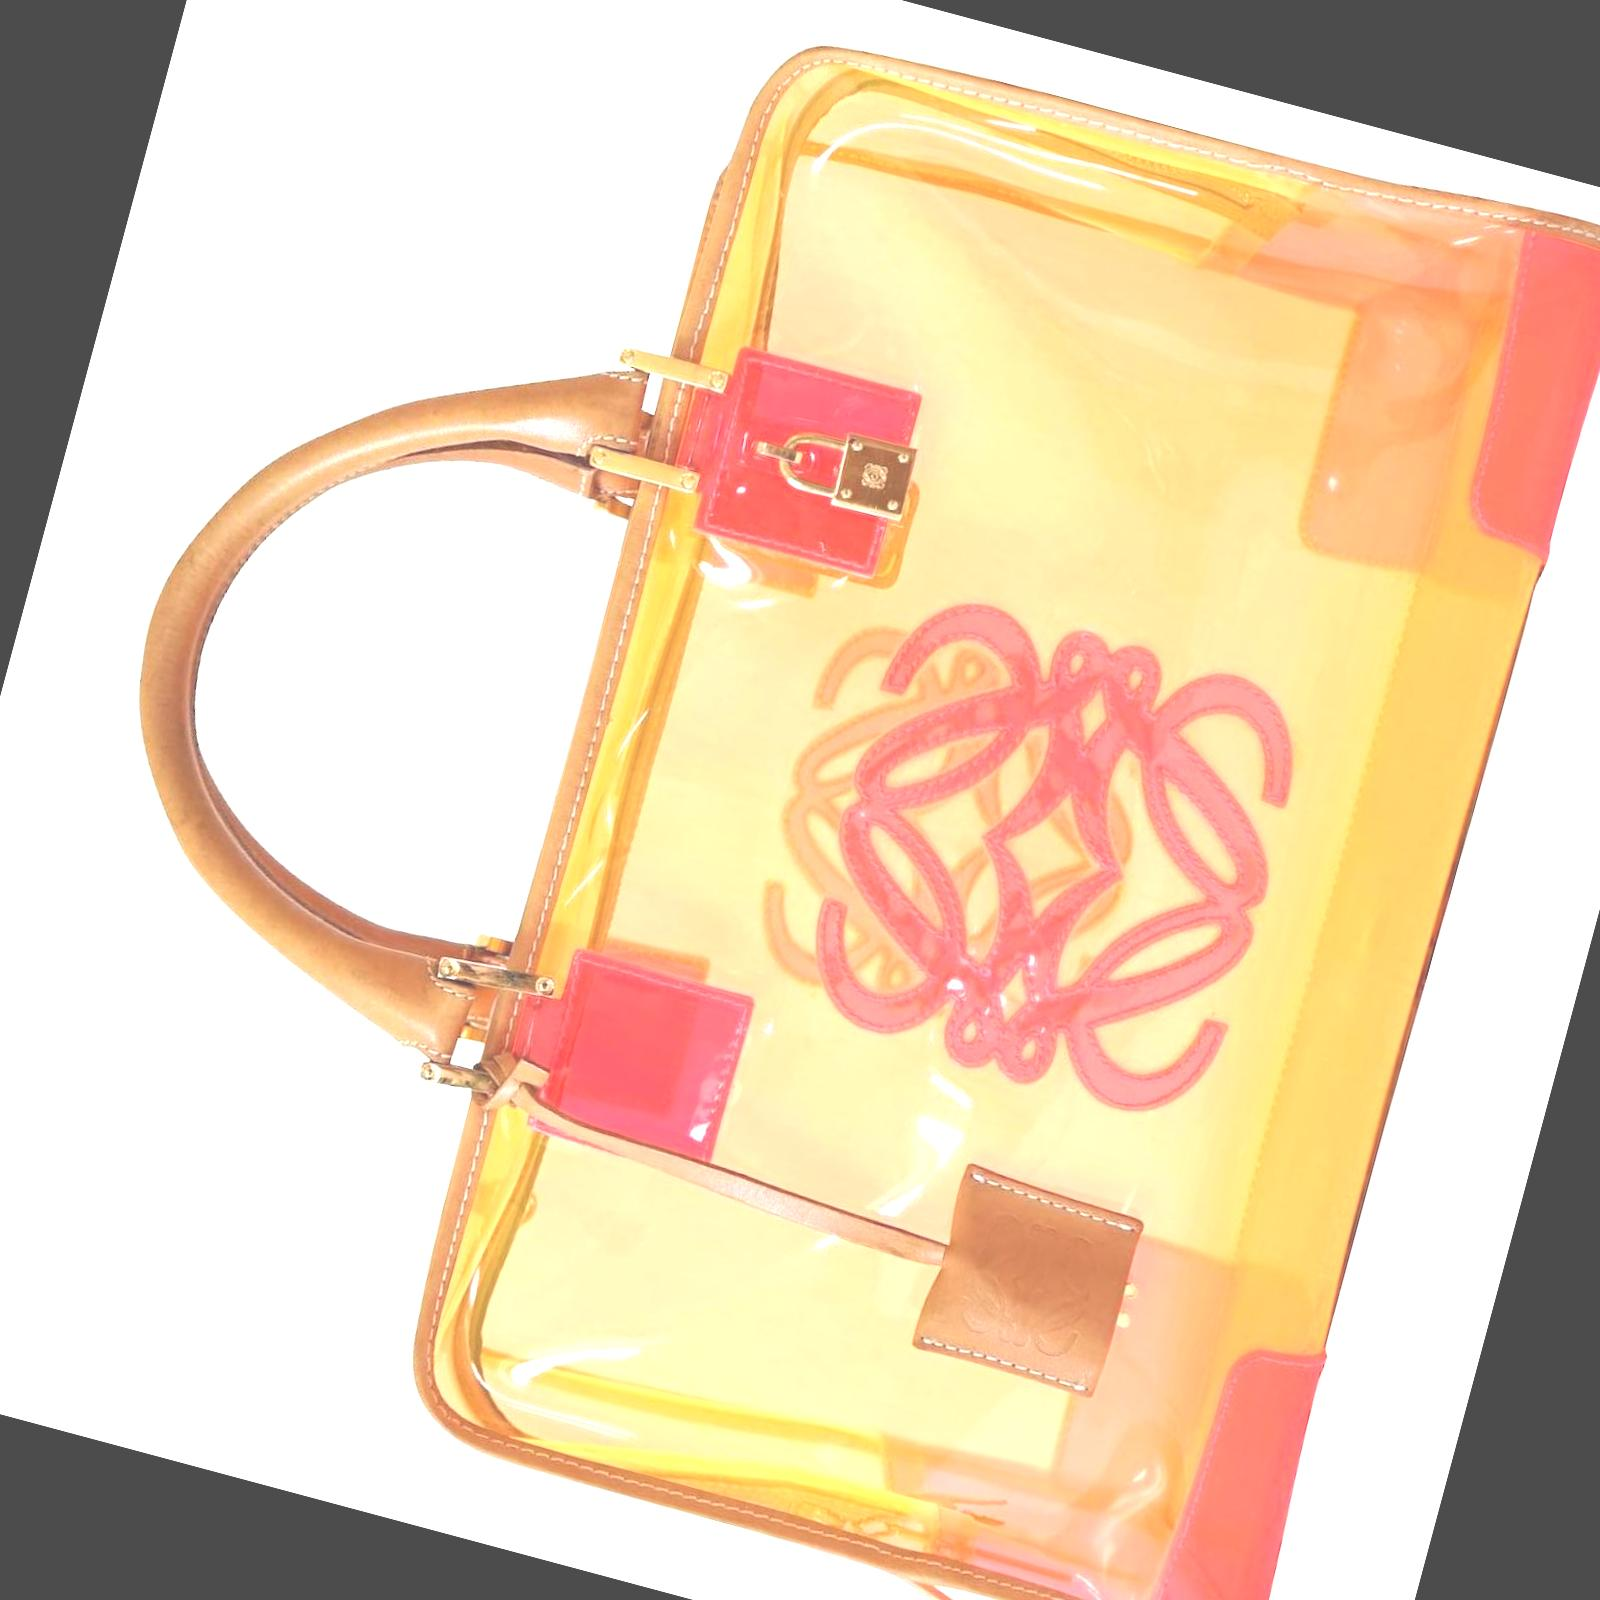LOEWE: (760, 557, 1323, 1128)
